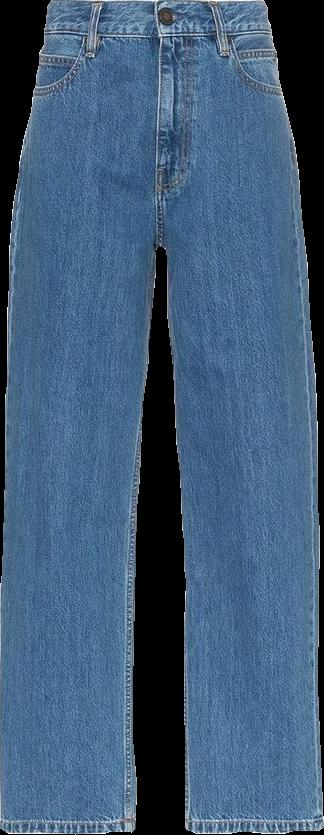Hemline: (185, 822, 323, 834), (0, 823, 139, 834)
Pantleg: (0, 0, 166, 832), (157, 0, 322, 831)
Waistline: (43, 27, 270, 42), (46, 0, 263, 10)
